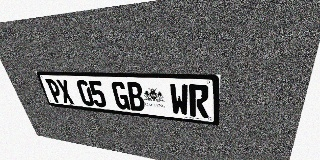0: (75, 80, 95, 106)
5: (88, 80, 108, 108)
B: (126, 82, 146, 112)
G: (111, 81, 131, 110)
P: (45, 79, 64, 103)
R: (189, 84, 209, 118)
W: (169, 83, 189, 116)
X: (55, 79, 75, 104)
